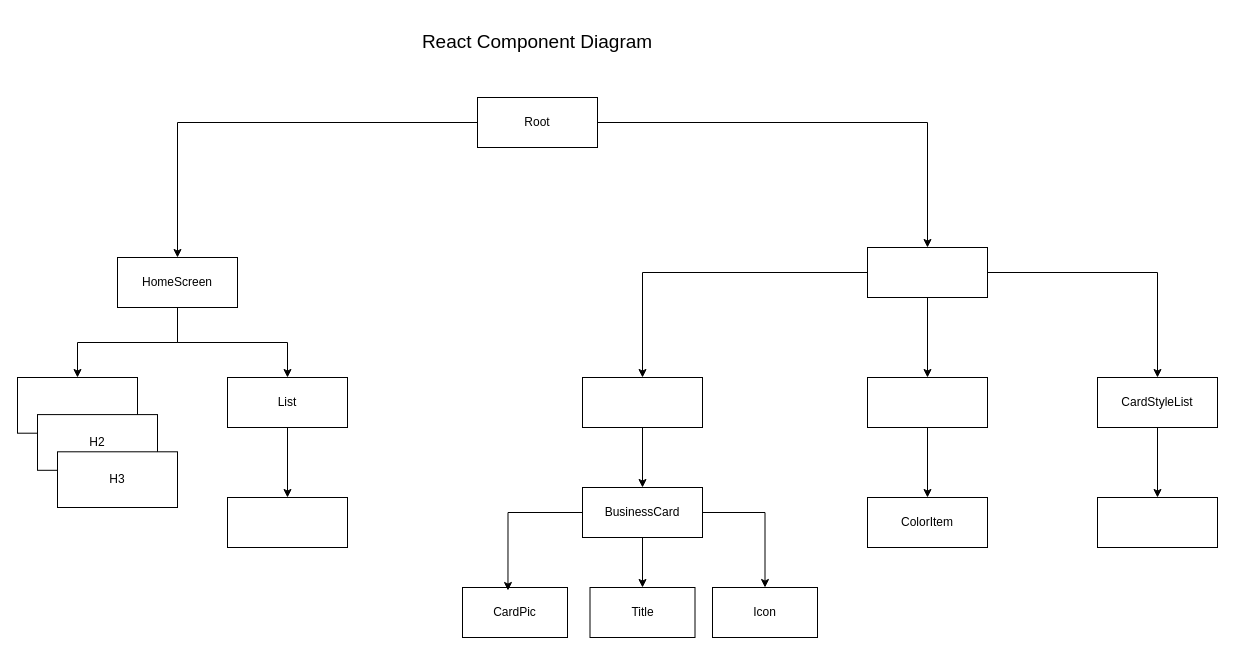
Some shapes in this 1235 by 655 pixel diagram are drawn without their labels. Each missing label, with the box of its shape:
Card: (582, 376, 702, 428)
CardbackgroundList: (866, 376, 988, 428)
CardStyleListItem: (1096, 496, 1218, 548)
CardView: (866, 246, 988, 298)
H1: (16, 376, 138, 433)
ListItem: (226, 496, 348, 548)
